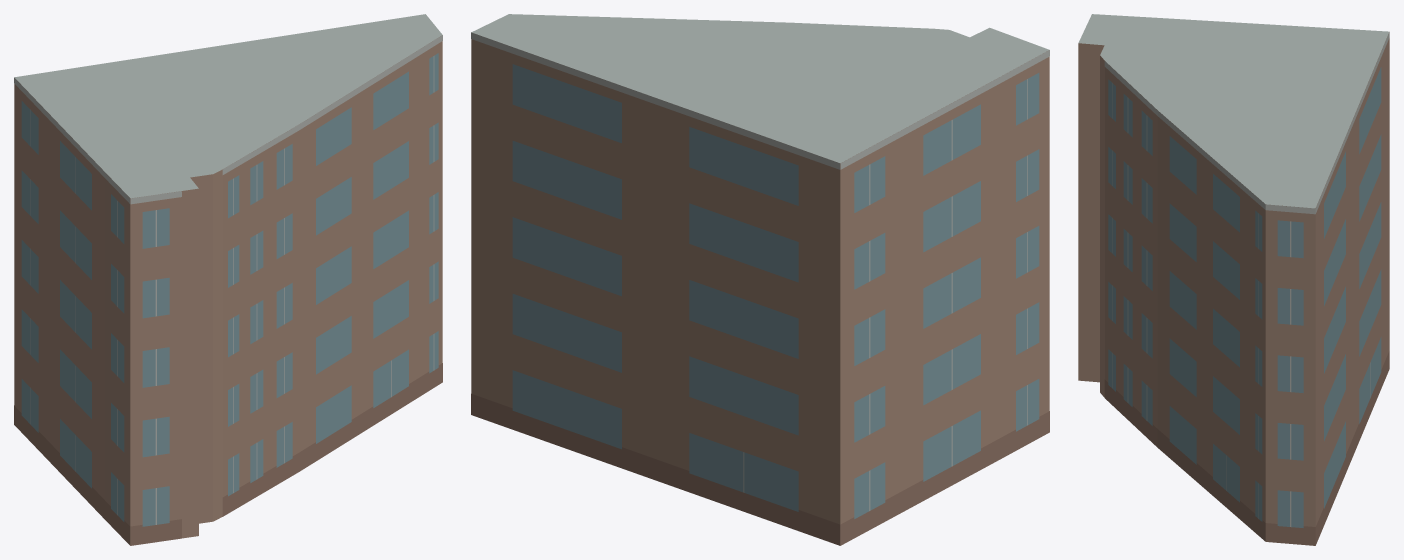
Rendered from survey-upis-32782812.glb.
The picture shows the model from 3 angles, left to right: view 1: azimuth 30°, elevation 25°; view 2: azimuth 150°, elevation 25°; view 3: azimuth 270°, elevation 25°; orthographic projection. The views are drawn at different scales.
Parts seen in each view (by area): view 1: survey-upis-32782812.tmp; view 2: survey-upis-32782812.tmp; view 3: survey-upis-32782812.tmp.
Part boxes in pixels (x1,y1,x2,y2): survey-upis-32782812.tmp: (14, 14, 442, 545); survey-upis-32782812.tmp: (471, 14, 1049, 545); survey-upis-32782812.tmp: (1078, 14, 1389, 545).
Bounding box in the file's own units: 17.44 × 14.1 × 11.79.
